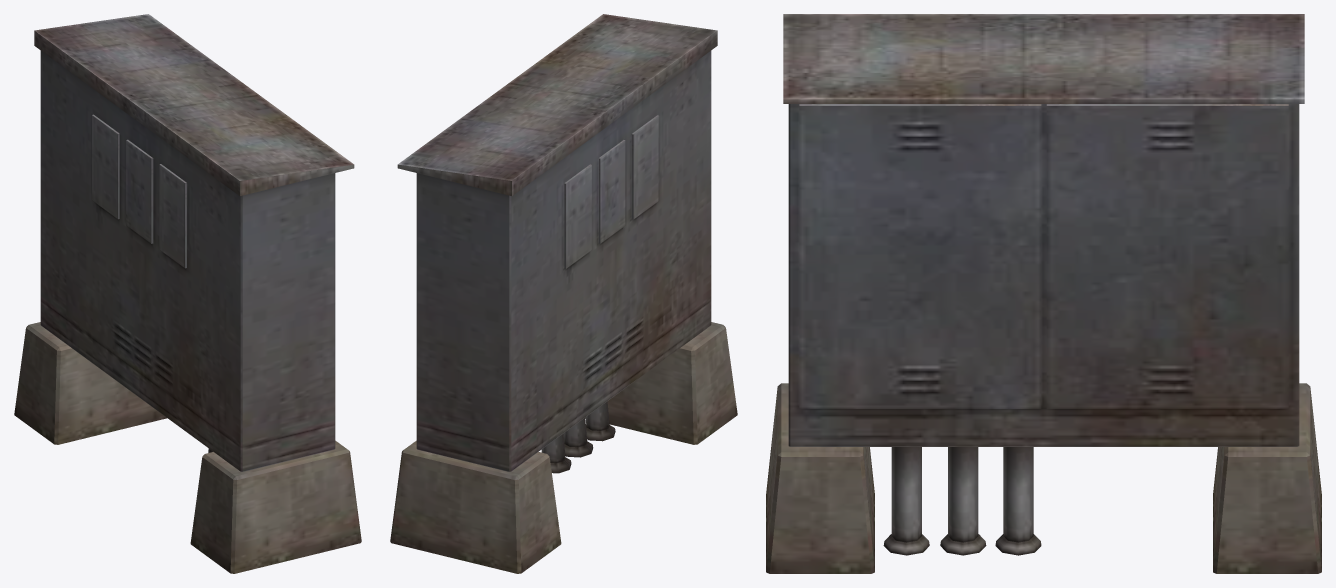
File: signalbox_01.glb
3 renders of one model, left to right at view 1: azimuth 30°, elevation 25°; view 2: azimuth 150°, elevation 25°; view 3: azimuth 270°, elevation 25°, orthographic. The views are drawn at different scales.
Visible parts, largest first — view 1: 0_de_train_signalbox; view 2: 0_de_train_signalbox; view 3: 0_de_train_signalbox.
Boxes of the visible parts, x1,y1,x2,y2 form: 0_de_train_signalbox: [14, 14, 361, 573]; 0_de_train_signalbox: [390, 14, 737, 573]; 0_de_train_signalbox: [766, 14, 1321, 573].
Size of the model in its own units: 0.9168 by 2.57 by 2.65.
Materials: 1 (1 with a texture image).
